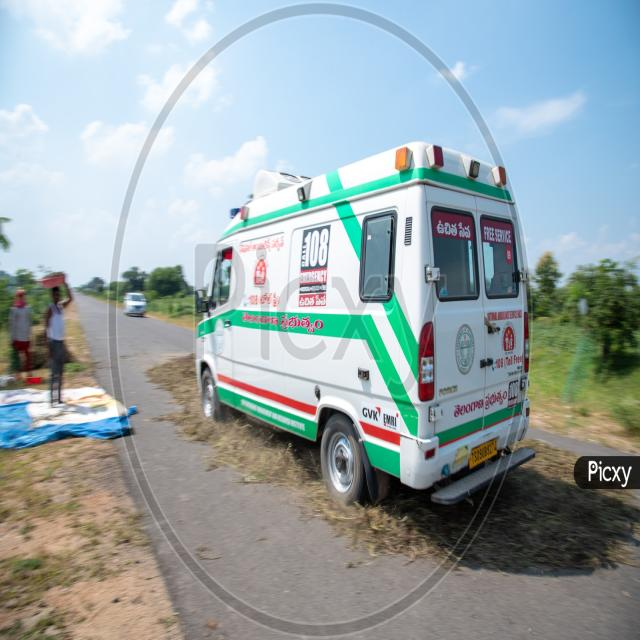ambulance: (196, 142, 535, 514)
